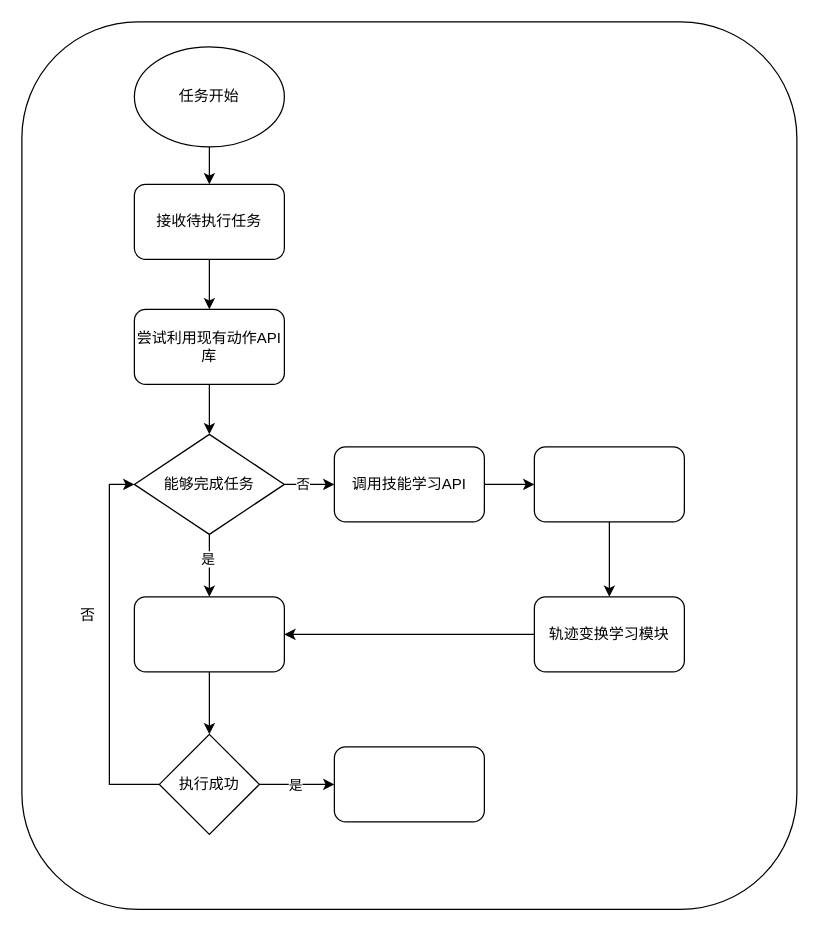
Image size: 819x931. Some labels were removed from this diagram. The shapes that lost their labels are listed below. From the top down, each one's centre as x and y in pixels, then its label:
At [608,484]: "位姿估计模块".
At [208,634]: "生成解决方案".
At [408,784]: "新技能集成至动作API".
